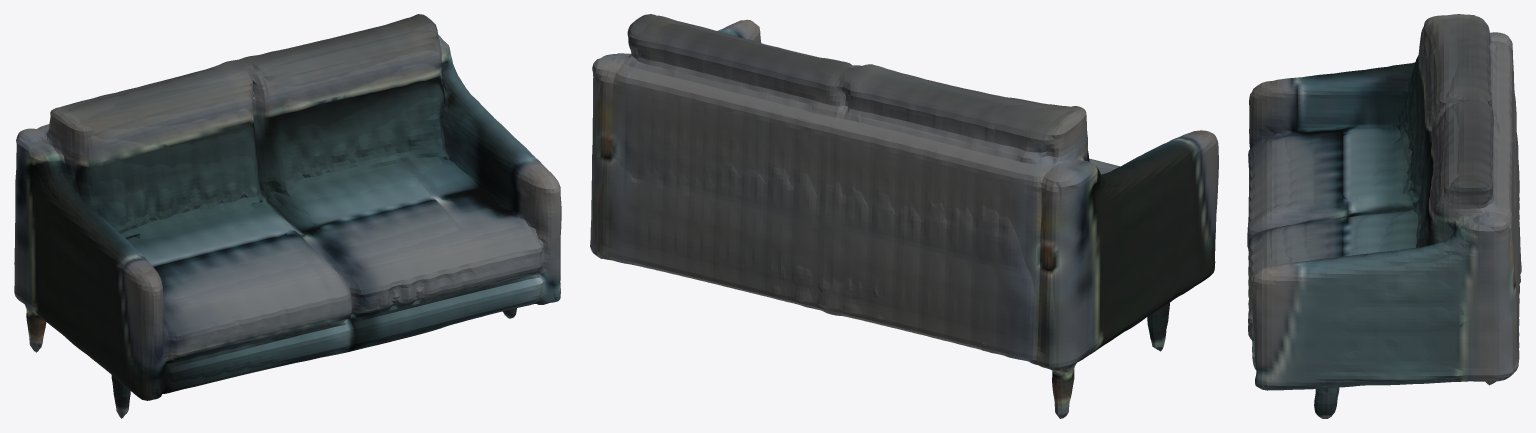
File: sofa-004.glb
The picture shows the model from 3 angles, left to right: view 1: azimuth 30°, elevation 25°; view 2: azimuth 150°, elevation 25°; view 3: azimuth 270°, elevation 25°; orthographic projection. The views are drawn at different scales.
Parts seen in each view (by area): view 1: geometry_0; view 2: geometry_0; view 3: geometry_0.
Part boxes in pixels (x1,y1,x2,y2): geometry_0: (14, 14, 561, 418); geometry_0: (590, 14, 1218, 418); geometry_0: (1247, 14, 1521, 418).
Bounding box in the file's own units: 150 × 85 × 88.
